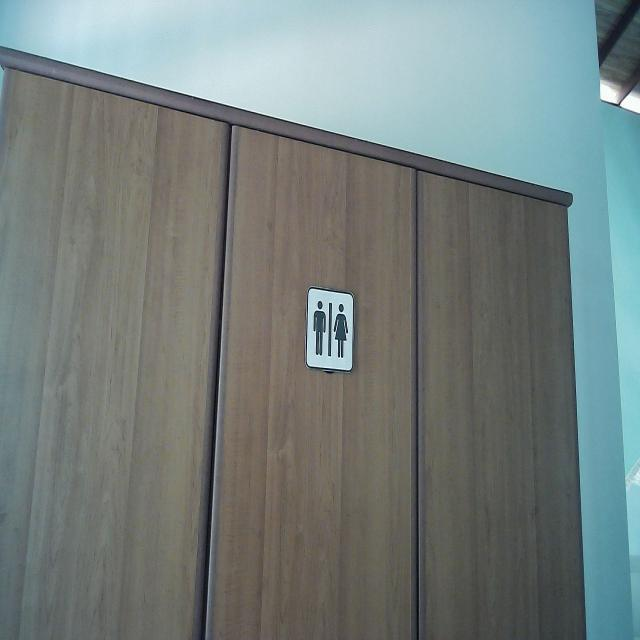restroom: (304, 283, 356, 377)
